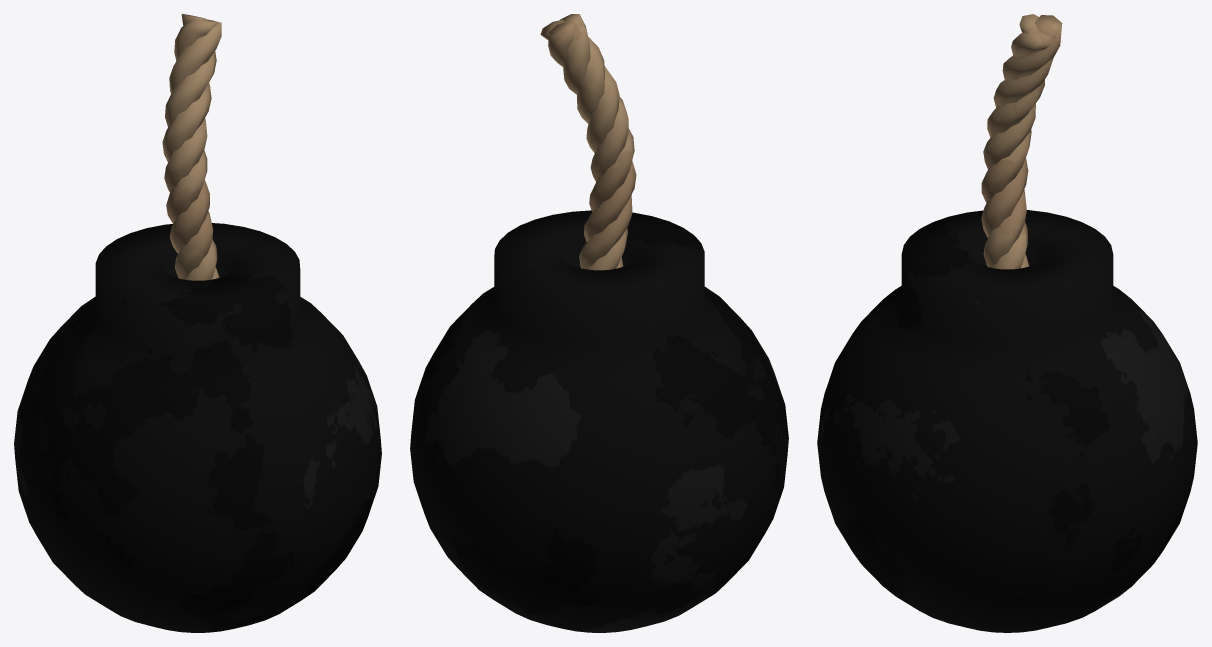
File: LE_Bomb.fbx
3 renders of one model, left to right at view 1: azimuth 30°, elevation 25°; view 2: azimuth 150°, elevation 25°; view 3: azimuth 270°, elevation 25°, orthographic. The views are drawn at different scales.
Parts seen in each view (by area): view 1: LE_Bomb; view 2: LE_Bomb; view 3: LE_Bomb.
Boxes of the visible parts, <box> form: LE_Bomb: <box>14,14,381,632</box>; LE_Bomb: <box>410,14,788,632</box>; LE_Bomb: <box>817,14,1197,632</box>.
Size of the model in its own units: 200 by 351 by 200.
1 material, 1 textured.
